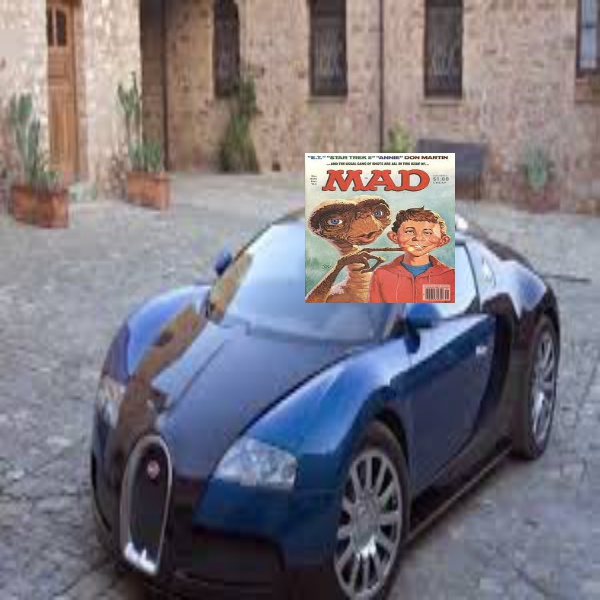time_cover: (302, 147, 456, 305)
